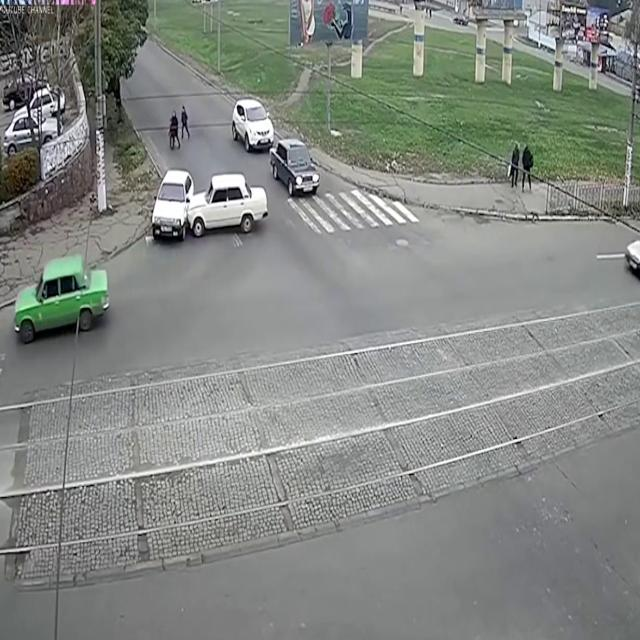accident: (144, 162, 272, 254)
non_accident: (227, 90, 323, 206)
